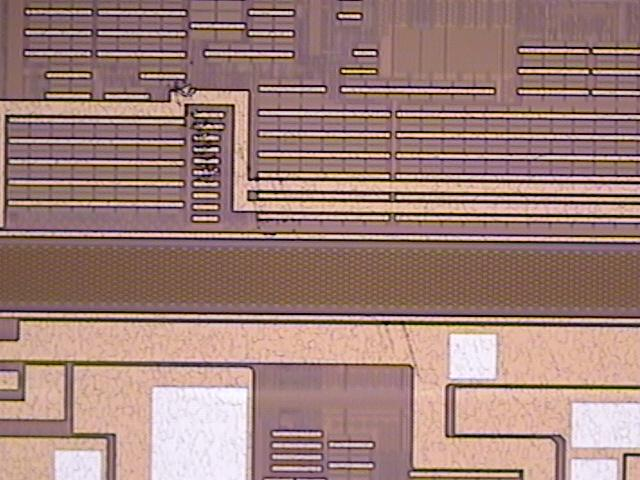SCRATCH: (162, 73, 428, 390)
